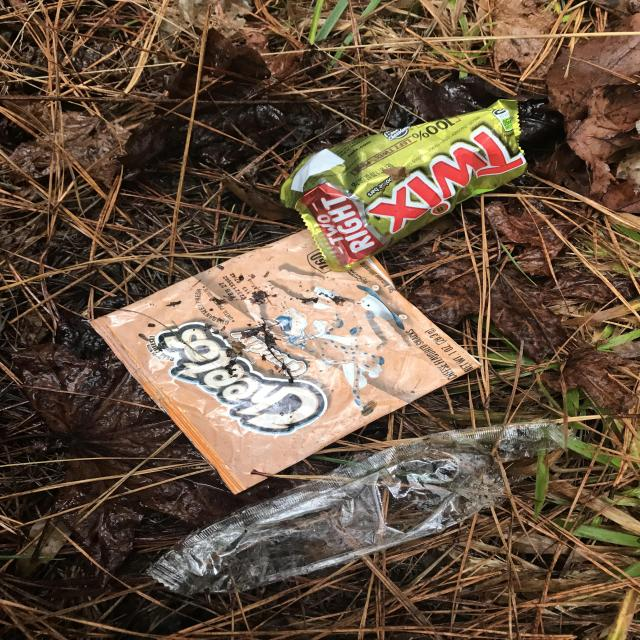litter: (39, 69, 589, 519), (127, 393, 615, 617)
